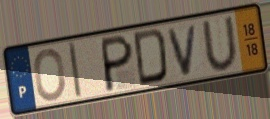D: (132, 26, 170, 88)
I: (66, 40, 84, 101)
O: (32, 47, 67, 103)
P: (101, 32, 135, 94)
U: (200, 14, 241, 73)
V: (166, 21, 200, 79)
